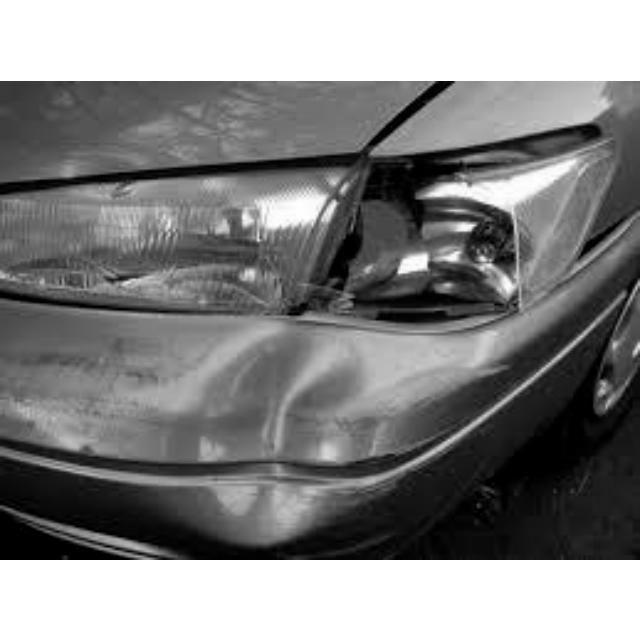Headlight-damage: (208, 105, 544, 329)
front-bumper-dent: (126, 281, 452, 542)
